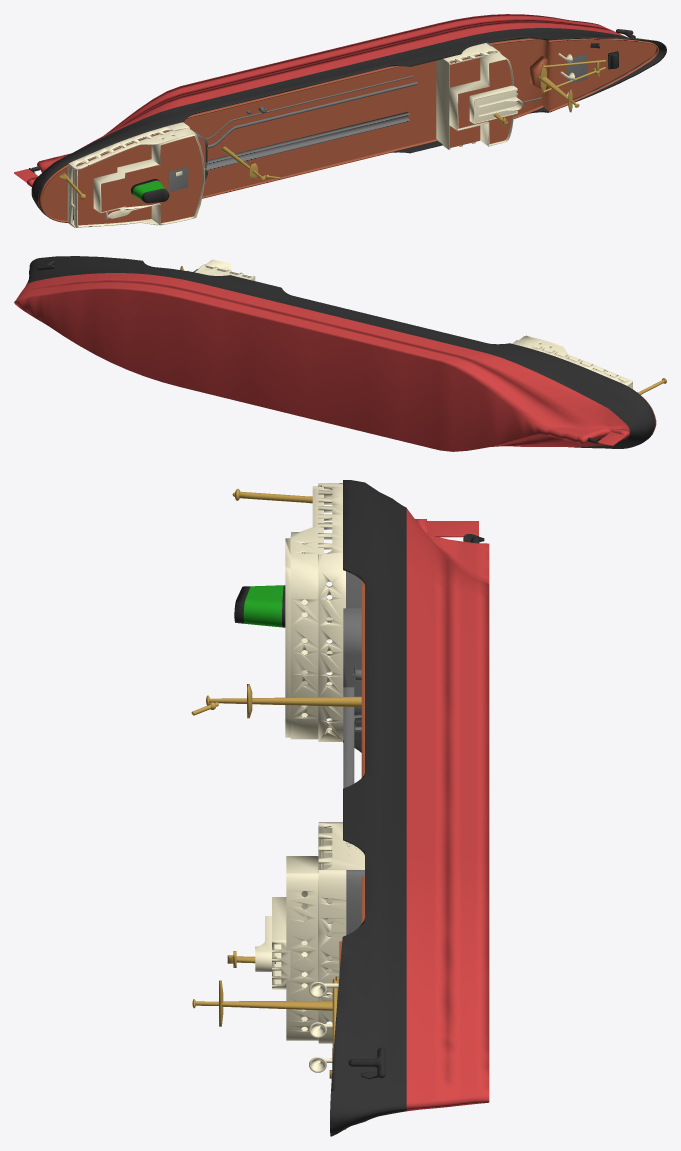
The model's file is AnyConv_com_uploads_files_94180_tanker (2).fbx.
The picture shows the model from 3 angles, top to bottom: view 1: azimuth 30°, elevation 25°; view 2: azimuth 150°, elevation 25°; view 3: azimuth 270°, elevation 25°; orthographic projection. The views are drawn at different scales.
Visible parts, largest first — view 1: 3DSMesh_30, 3DSMesh_90, 3DSMesh_89, 3DSMesh_80, 3DSMesh_49, 3DSMesh_51, 3DSMesh_21, 3DSMesh_55, 3DSMesh_81, 3DSMesh_1, 3DSMesh_41, 3DSMesh_58 (+11 smaller); view 2: 3DSMesh_90, 3DSMesh_89, 3DSMesh_16, 3DSMesh_32, 3DSMesh_81; view 3: 3DSMesh_90, 3DSMesh_89, 3DSMesh_16, 3DSMesh_32, 3DSMesh_41, 3DSMesh_81, 3DSMesh_71, 3DSMesh_57, 3DSMesh_21, 3DSMesh_67, 3DSMesh_51, 3DSMesh_31 (+2 smaller).
Part boxes in pixels (x1,y1,x2,y2): 3DSMesh_30: (38,39,655,220); 3DSMesh_90: (37,14,625,172); 3DSMesh_89: (31,28,666,222); 3DSMesh_80: (101,136,202,222); 3DSMesh_49: (78,135,173,225); 3DSMesh_51: (205,111,409,170); 3DSMesh_21: (93,133,204,225); 3DSMesh_55: (186,38,543,198); 3DSMesh_81: (436,43,501,149); 3DSMesh_1: (458,59,511,144); 3DSMesh_41: (449,52,513,146); 3DSMesh_58: (449,57,480,147); 3DSMesh_90: (14,273,629,451); 3DSMesh_89: (26,256,655,448); 3DSMesh_16: (519,336,632,388); 3DSMesh_32: (512,340,632,386); 3DSMesh_81: (195,264,255,280); 3DSMesh_90: (406,508,489,1111); 3DSMesh_89: (330,480,406,1136); 3DSMesh_16: (290,486,323,739); 3DSMesh_32: (318,483,345,741); 3DSMesh_41: (286,856,318,1040); 3DSMesh_81: (318,822,364,1043); 3DSMesh_71: (343,608,361,722); 3DSMesh_57: (272,897,290,989); 3DSMesh_21: (285,532,307,737); 3DSMesh_67: (209,696,361,707); 3DSMesh_51: (343,687,354,788); 3DSMesh_31: (346,843,364,935).
Size of the model in its own units: 2614 by 350 by 539.
